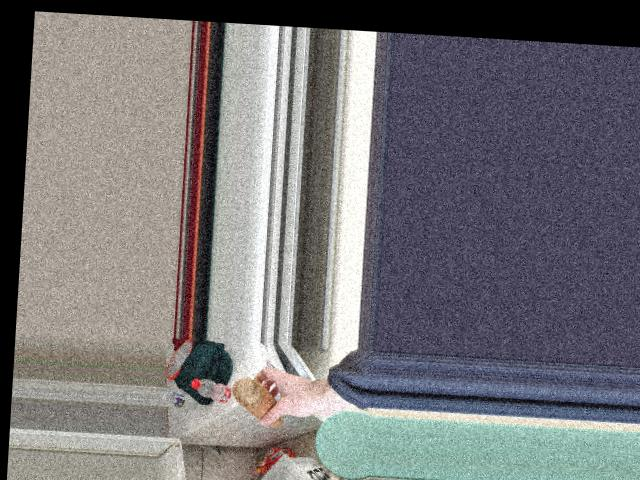sweet_potato: (230, 380, 283, 429)
